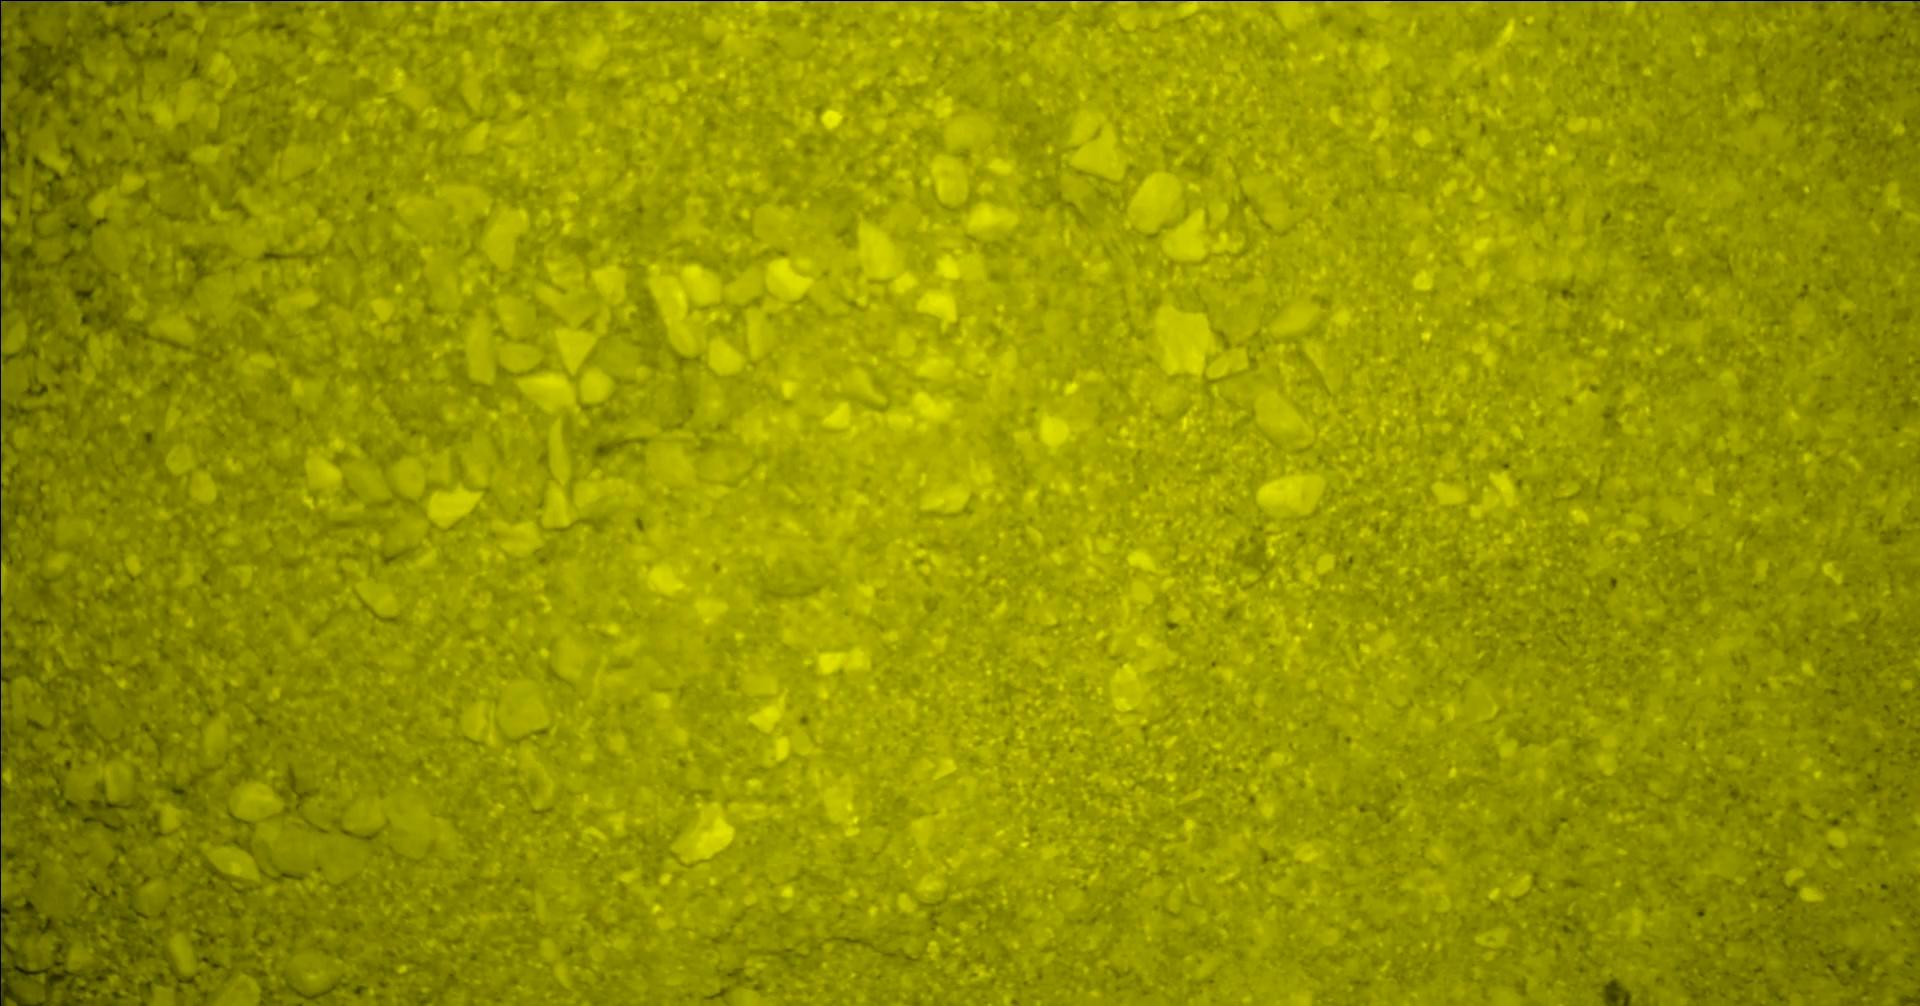ant: (0, 0, 62, 15), (0, 715, 1, 782)
